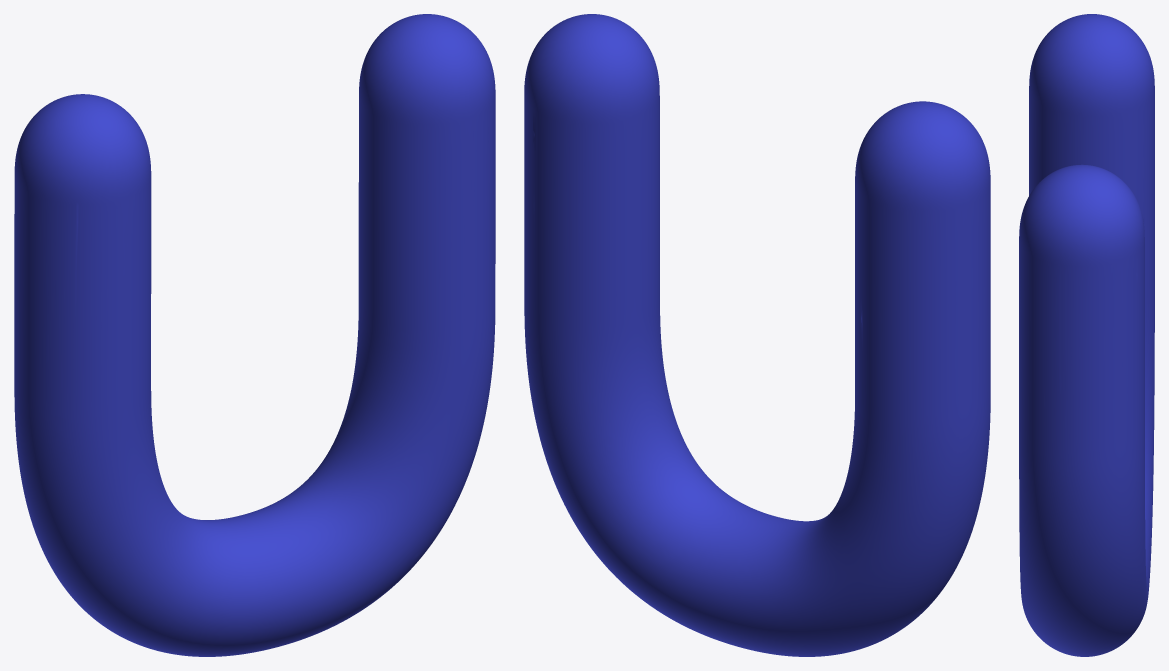
File: letter-u.glb
3 views of the same model, side by side, from view 1: azimuth 30°, elevation 25°; view 2: azimuth 150°, elevation 25°; view 3: azimuth 270°, elevation 25° (orthographic). The views are drawn at different scales.
Visible parts, largest first — view 1: node_id3; view 2: node_id3; view 3: node_id3.
Boxes of the visible parts, x1=… form: node_id3: x1=14, y1=14, x2=495, y2=656; node_id3: x1=524, y1=14, x2=990, y2=656; node_id3: x1=1019, y1=14, x2=1154, y2=656.
Size of the model in its own units: 0.419 by 0.512 by 0.1171.
Materials: 1 (1 with a texture image).
